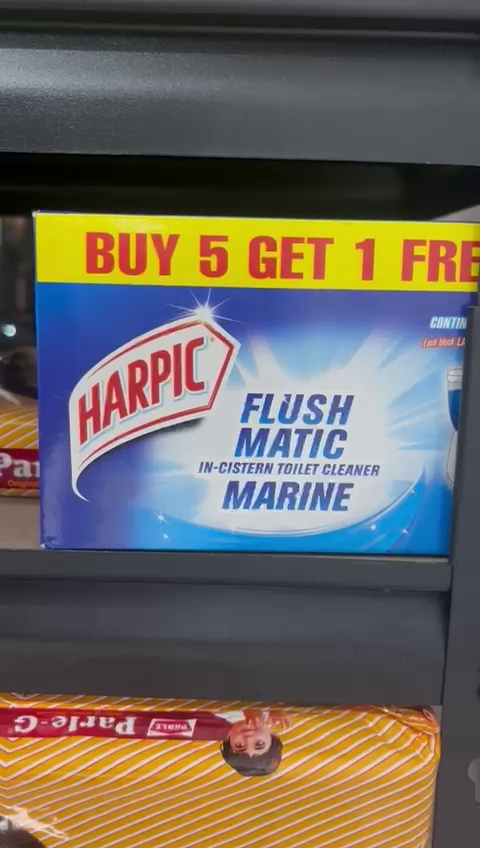Harpic: (28, 212, 480, 562)
